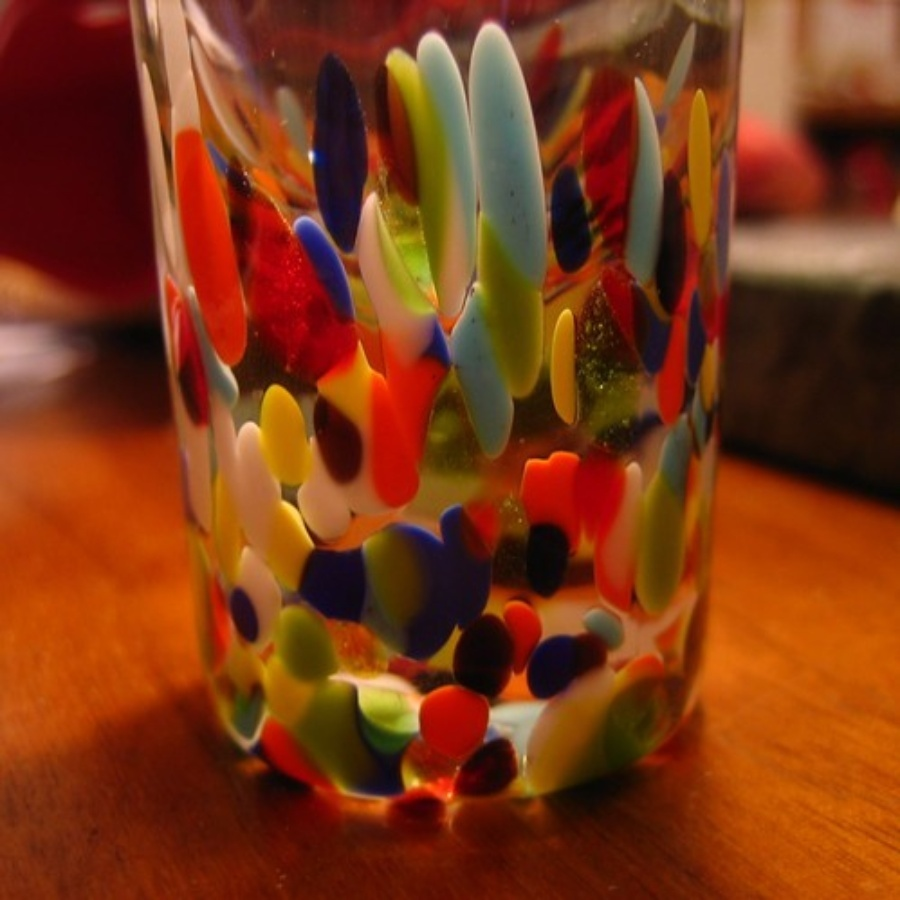whiskey: (172, 9, 742, 788)
